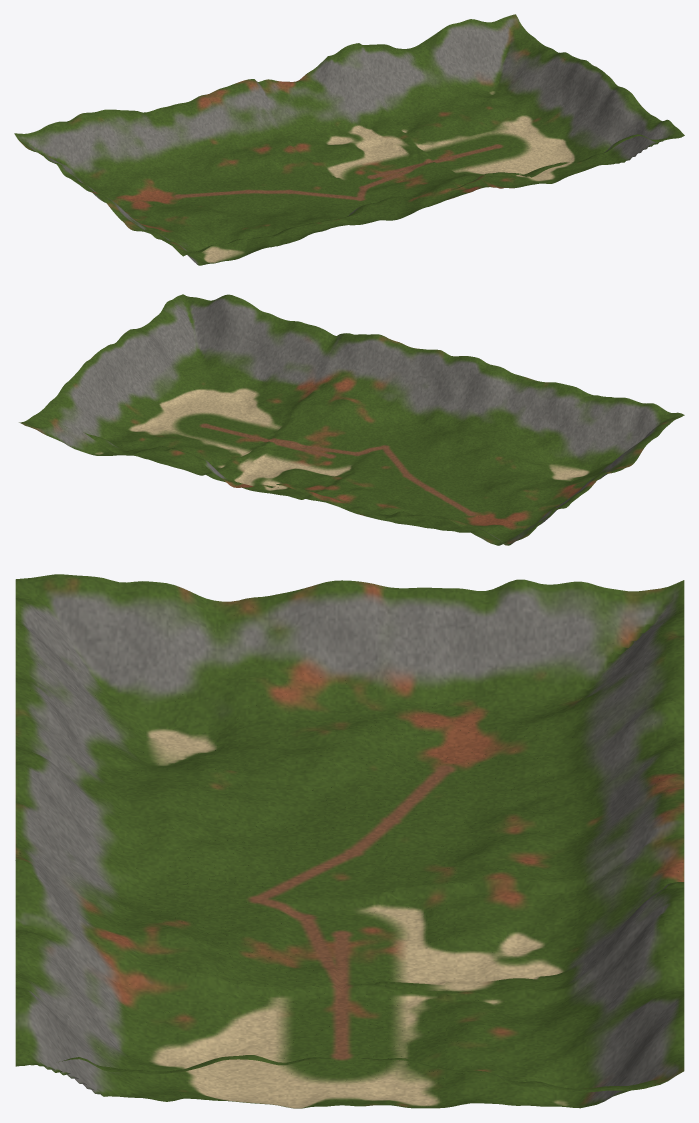
The model's file is SM_Art_Terrain_L_HerrerasFall.gltf.
3 renders of one model, top to bottom at view 1: azimuth 30°, elevation 25°; view 2: azimuth 150°, elevation 25°; view 3: azimuth 270°, elevation 25°, orthographic. The views are drawn at different scales.
Visible parts, largest first — view 1: SM_Art_Terrain_L_HerrerasFall; view 2: SM_Art_Terrain_L_HerrerasFall; view 3: SM_Art_Terrain_L_HerrerasFall.
Part boxes in pixels (box(x1,y1,x2,y2)): SM_Art_Terrain_L_HerrerasFall: box(14, 14, 684, 265); SM_Art_Terrain_L_HerrerasFall: box(19, 294, 684, 545); SM_Art_Terrain_L_HerrerasFall: box(15, 574, 684, 1108).
Bounding box in the file's own units: 288 × 32.67 × 169.
2 materials, 2 textured.
